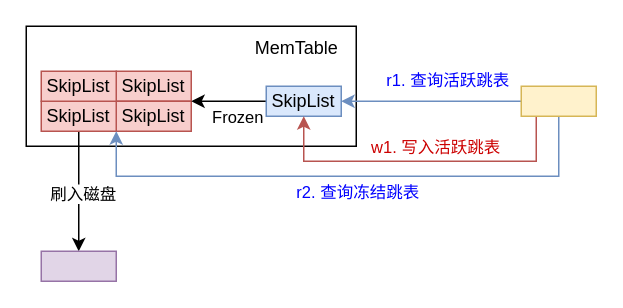
Image size: 623x308. Some labels were removed from this diagram. The shapes that lost their labels are listed below. From the top down, each one's centre as x and y in pixels, then its label:
At (558,100): "Client".
At (78,265): "SST".
